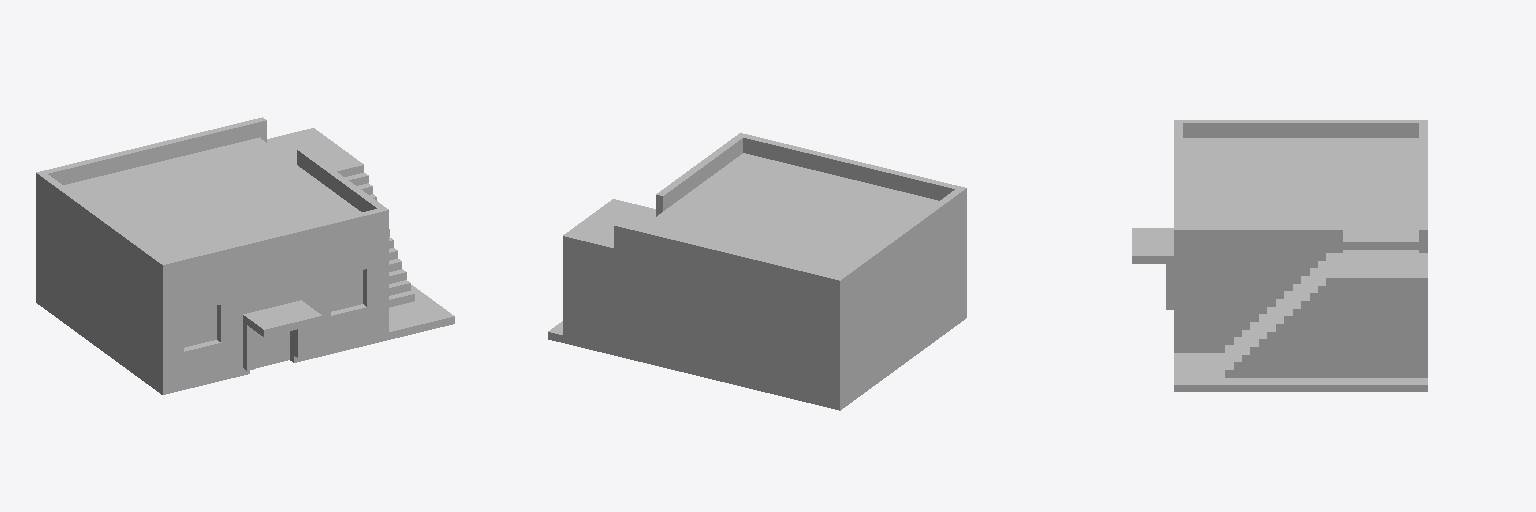
The model's file is EgyptianHouse.obj.
3 renders of one model, left to right at view 1: azimuth 30°, elevation 25°; view 2: azimuth 150°, elevation 25°; view 3: azimuth 270°, elevation 25°, orthographic.
Bounding box in the file's own units: 40 × 17 × 35.